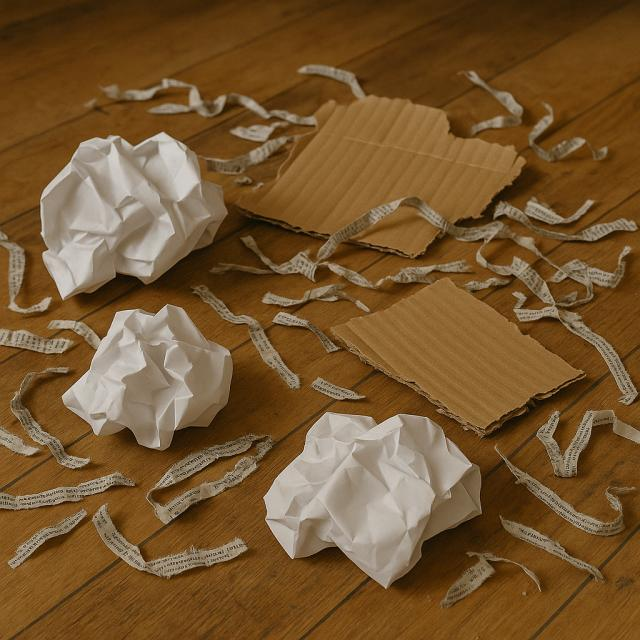paper: (263, 409, 486, 587), (40, 133, 230, 302), (67, 307, 236, 453)
